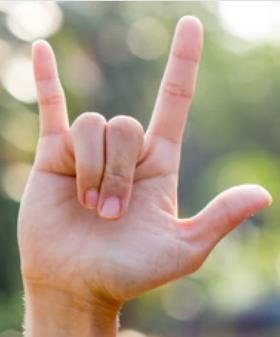back: (10, 12, 278, 300)
